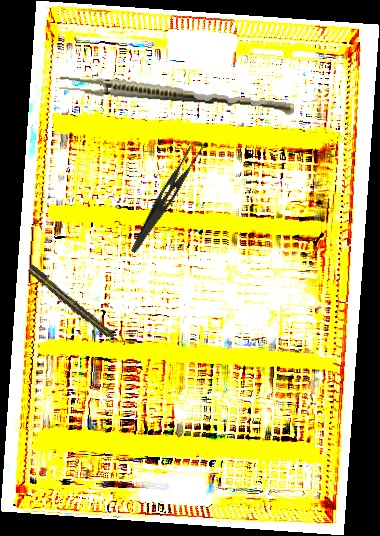Dressing Forceps: (129, 139, 206, 260)
Handpiece: (26, 263, 125, 349)
Tissue Forceps: (58, 73, 296, 116)
